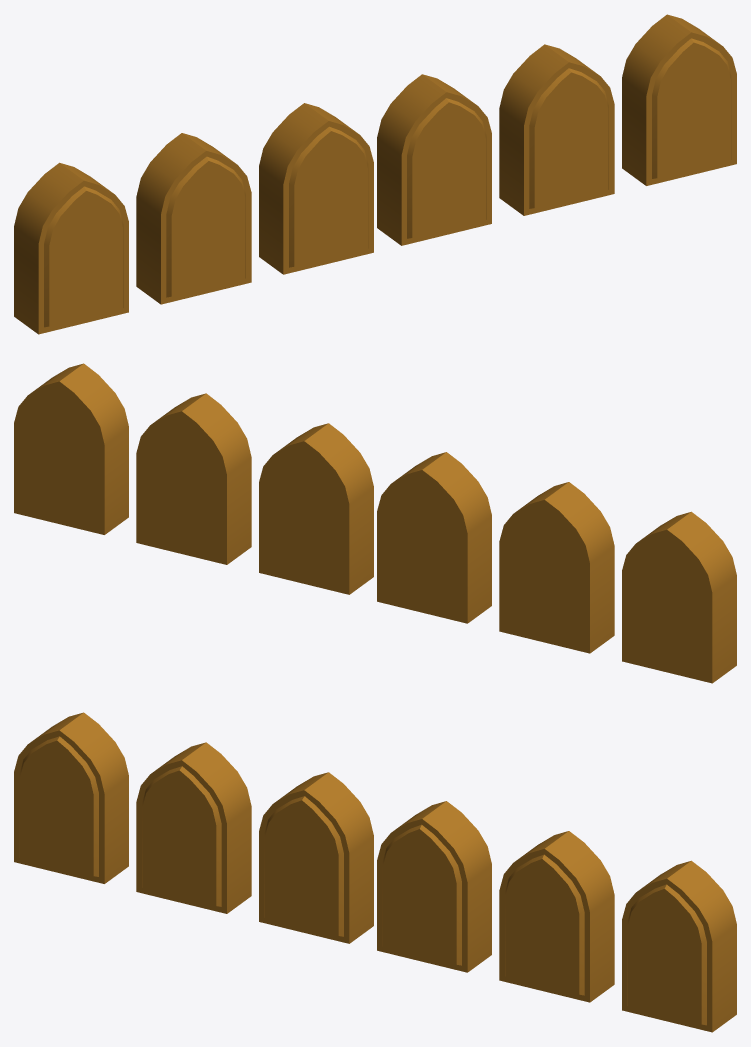
The model's file is SM_roof_cresting_01.fbx.
3 views of the same model, one above another, from view 1: azimuth 30°, elevation 25°; view 2: azimuth 150°, elevation 25°; view 3: azimuth 330°, elevation 25° (orthographic).
Visible parts, largest first — view 1: Object33147; view 2: Object33147; view 3: Object33147.
Part boxes in pixels (x1,y1,x2,y2): Object33147: (14, 14, 736, 334); Object33147: (14, 363, 736, 683); Object33147: (14, 712, 736, 1032).
Bounding box in the file's own units: 201 × 39.19 × 13.37.
